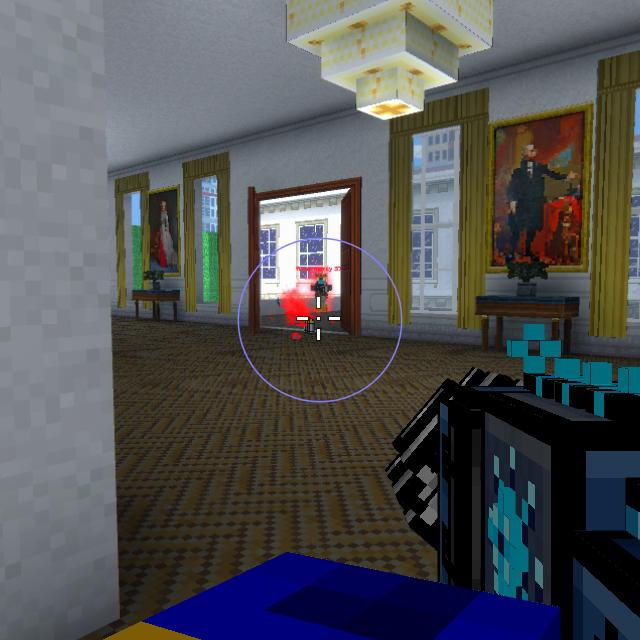Enemy: (310, 274, 332, 312)
